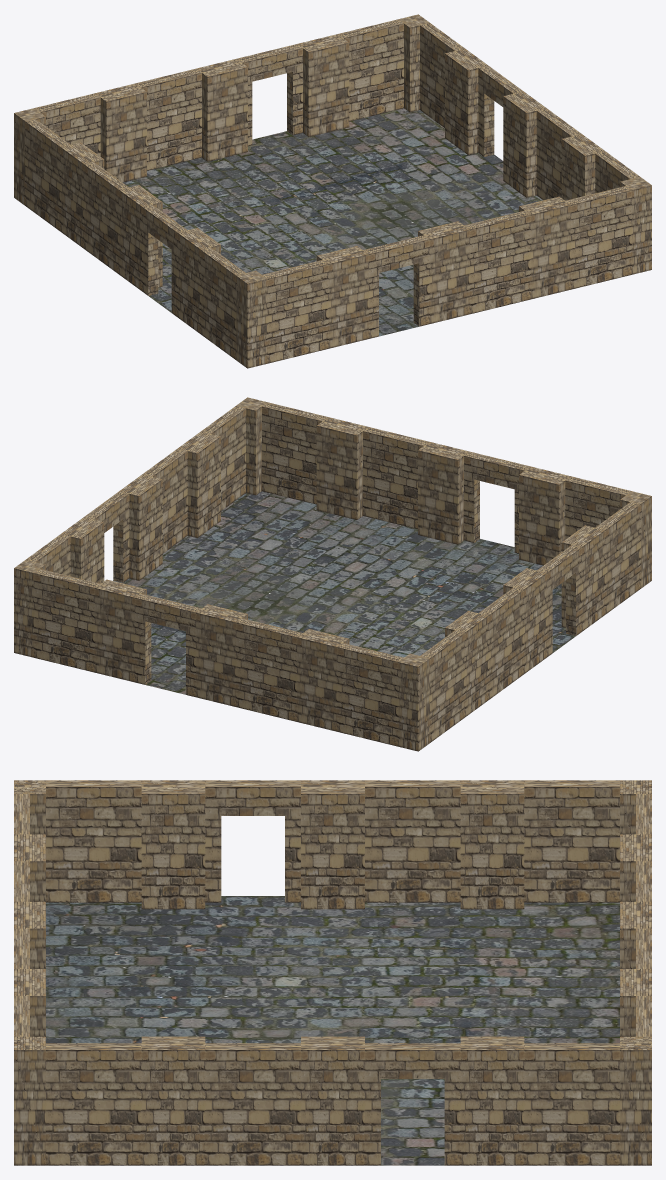
The model's file is 1_4wayMixer.fbx.
3 renders of one model, top to bottom at view 1: azimuth 30°, elevation 25°; view 2: azimuth 150°, elevation 25°; view 3: azimuth 270°, elevation 25°, orthographic. The views are drawn at different scales.
Parts seen in each view (by area): view 1: Cube_27, Plane; view 2: Cube_27, Plane; view 3: Cube_27, Plane.
Part boxes in pixels (x1=…): Cube_27: x1=14, y1=14, x2=651, y2=368; Plane: x1=123, y1=108, x2=542, y2=336; Cube_27: x1=14, y1=397, x2=651, y2=751; Plane: x1=113, y1=491, x2=575, y2=694; Cube_27: x1=14, y1=780, x2=651, y2=1165; Plane: x1=46, y1=896, x2=619, y2=1165.
Size of the model in its own units: 40 by 8 by 40.
Materials: 2 (2 with a texture image).
